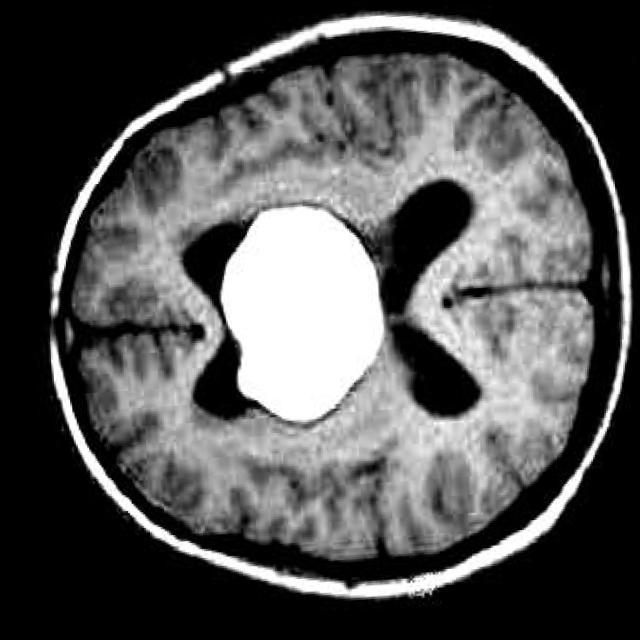Tumor: (220, 209, 380, 427)
